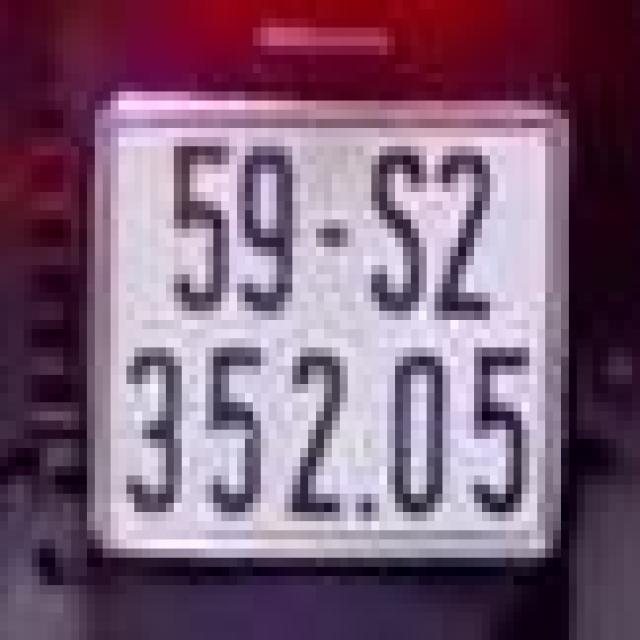0: (384, 329, 454, 521)
2: (276, 338, 356, 521), (431, 133, 502, 324)
3: (119, 334, 190, 526)
5: (202, 320, 272, 530), (458, 334, 530, 516), (162, 137, 233, 320)
9: (237, 132, 300, 316)
S: (360, 128, 430, 320)
